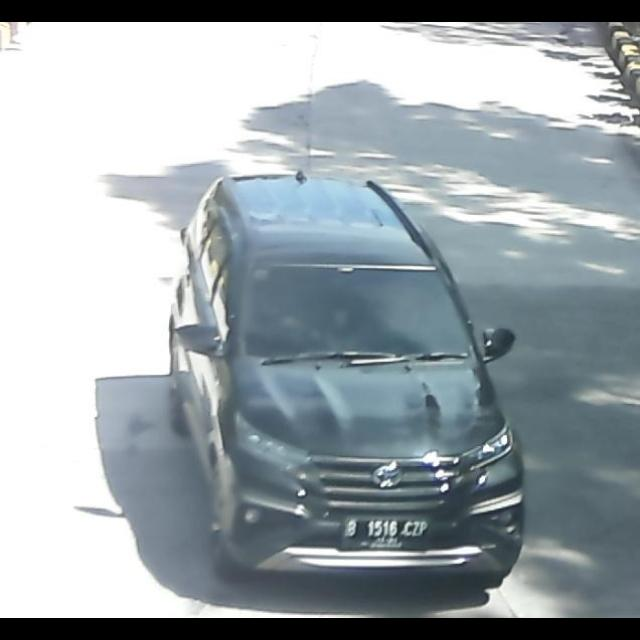plate: (341, 516, 433, 550)
